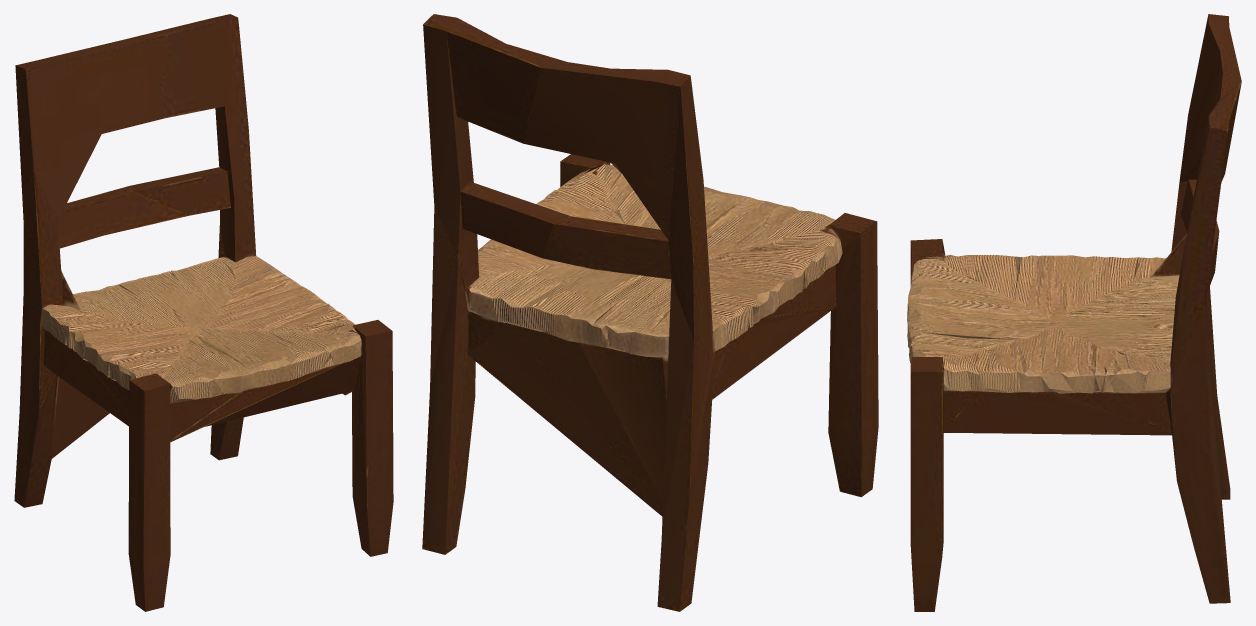
File: diningChair.glb
3 views of the same model, side by side, from view 1: azimuth 30°, elevation 25°; view 2: azimuth 150°, elevation 25°; view 3: azimuth 270°, elevation 25° (orthographic). The views are drawn at different scales.
Size of the model in its own units: 1.13 by 1.9 by 1.2.
1 material, 1 textured.
